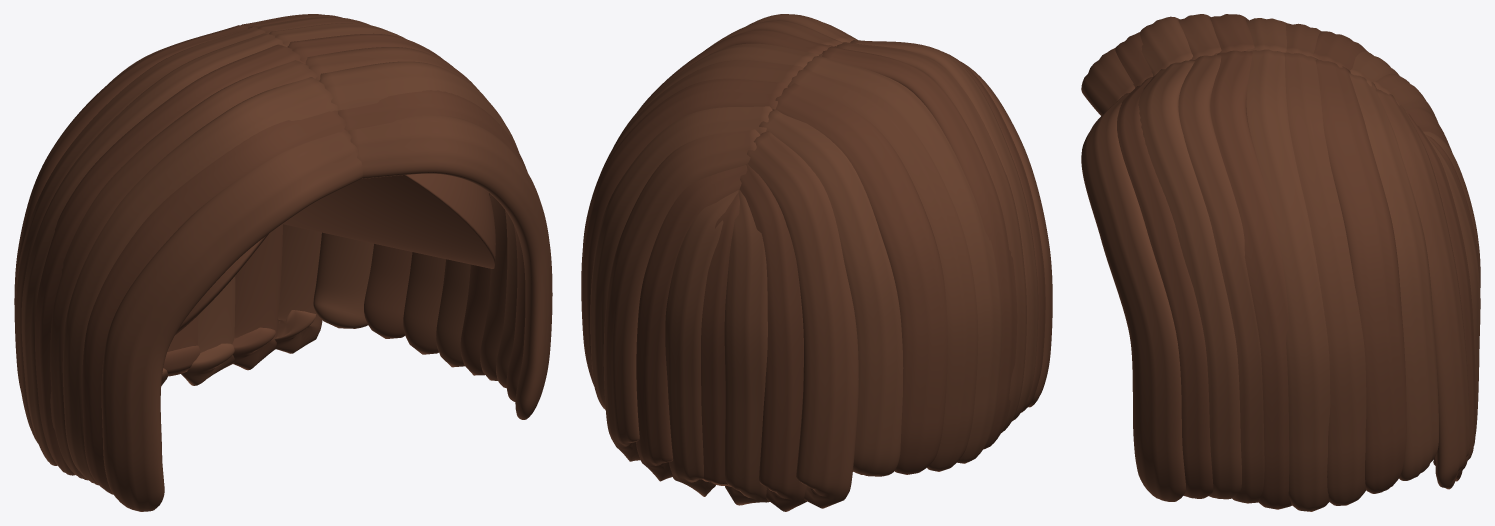
The model's file is hair-bob-grooved.glb.
3 views of the same model, side by side, from view 1: azimuth 30°, elevation 25°; view 2: azimuth 150°, elevation 25°; view 3: azimuth 270°, elevation 25° (orthographic). The views are drawn at different scales.
Visible parts, largest first — view 1: Hair / bob -1 0, Hair / bob 1 0, Hair / bob -1 2, Recessed roots, Hair / bob -1 1, Hair / bob -1 4, Hair / bob -1 3, Hair / bob -1 5, Hair / bob 1 2, Hair / bob -1 6, Hair / bob 1 1, Hair / bob 1 10 (+10 smaller); view 2: Hair / bob -1 9, Hair / bob -1 7, Hair / bob -1 8, Hair / bob -1 6, Hair / bob 1 9, Hair / bob -1 10, Hair / bob -1 11, Hair / bob -1 5, Hair / bob 1 11, Hair / bob 1 10, Hair / bob -1 4, Hair / bob 1 8 (+11 smaller); view 3: Hair / bob 1 7, Hair / bob 1 0, Hair / bob 1 5, Hair / bob 1 6, Hair / bob 1 2, Hair / bob 1 4, Hair / bob 1 3, Hair / bob 1 8, Hair / bob 1 1, Hair / bob 1 9, Hair / bob 1 10, Hair / bob 1 11 (+13 smaller).
Boxes of the visible parts, x1,y1,x2,y2 form: Hair / bob -1 0: [101, 131, 362, 511]; Hair / bob 1 0: [348, 115, 552, 419]; Hair / bob -1 2: [62, 77, 338, 485]; Recessed roots: [175, 173, 495, 334]; Hair / bob -1 1: [82, 110, 348, 494]; Hair / bob -1 4: [35, 44, 305, 475]; Hair / bob -1 3: [50, 60, 317, 480]; Hair / bob -1 5: [21, 33, 287, 465]; Hair / bob 1 2: [319, 61, 518, 388]; Hair / bob -1 6: [15, 27, 265, 442]; Hair / bob 1 1: [338, 90, 527, 401]; Hair / bob 1 10: [232, 224, 282, 370]; Hair / bob -1 9: [747, 131, 858, 508]; Hair / bob -1 7: [772, 83, 947, 474]; Hair / bob -1 8: [759, 109, 903, 476]; Hair / bob -1 6: [787, 67, 978, 471]; Hair / bob 1 9: [603, 129, 760, 461]; Hair / bob -1 10: [739, 164, 806, 511]; Hair / bob -1 11: [724, 189, 769, 505]; Hair / bob -1 5: [804, 53, 1002, 463]; Hair / bob 1 11: [665, 190, 738, 496]; Hair / bob 1 10: [636, 165, 747, 481]; Hair / bob -1 4: [822, 46, 1017, 449]; Hair / bob 1 8: [590, 106, 772, 409]; Hair / bob 1 7: [1315, 60, 1406, 493]; Hair / bob 1 0: [1081, 90, 1185, 501]; Hair / bob 1 5: [1246, 49, 1330, 511]; Hair / bob 1 6: [1284, 52, 1366, 505]; Hair / bob 1 2: [1138, 60, 1241, 499]; Hair / bob 1 4: [1210, 50, 1291, 509]; Hair / bob 1 3: [1178, 55, 1264, 503]; Hair / bob 1 8: [1349, 73, 1438, 480]; Hair / bob 1 1: [1117, 77, 1213, 498]; Hair / bob 1 9: [1375, 89, 1469, 489]; Hair / bob 1 10: [1406, 112, 1475, 481]; Hair / bob 1 11: [1425, 134, 1480, 435].
Size of the model in its own units: 1.13 by 0.997 by 0.8938.
